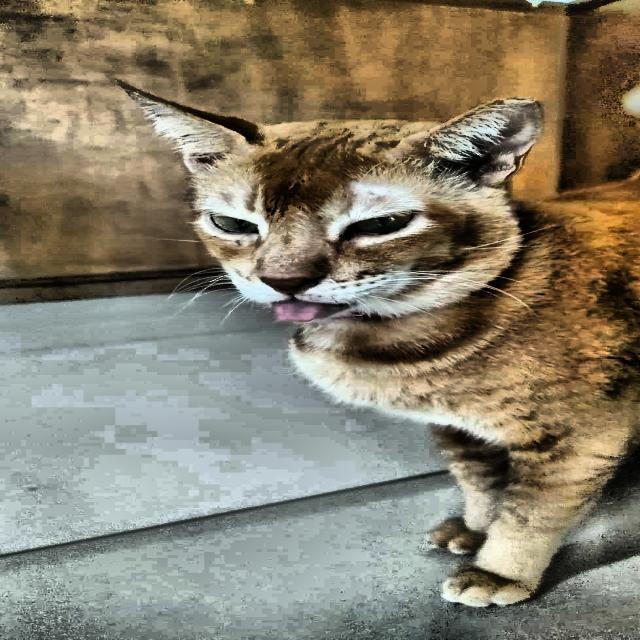Healthy skin: (108, 86, 390, 192), (434, 94, 539, 263), (366, 320, 532, 402)
